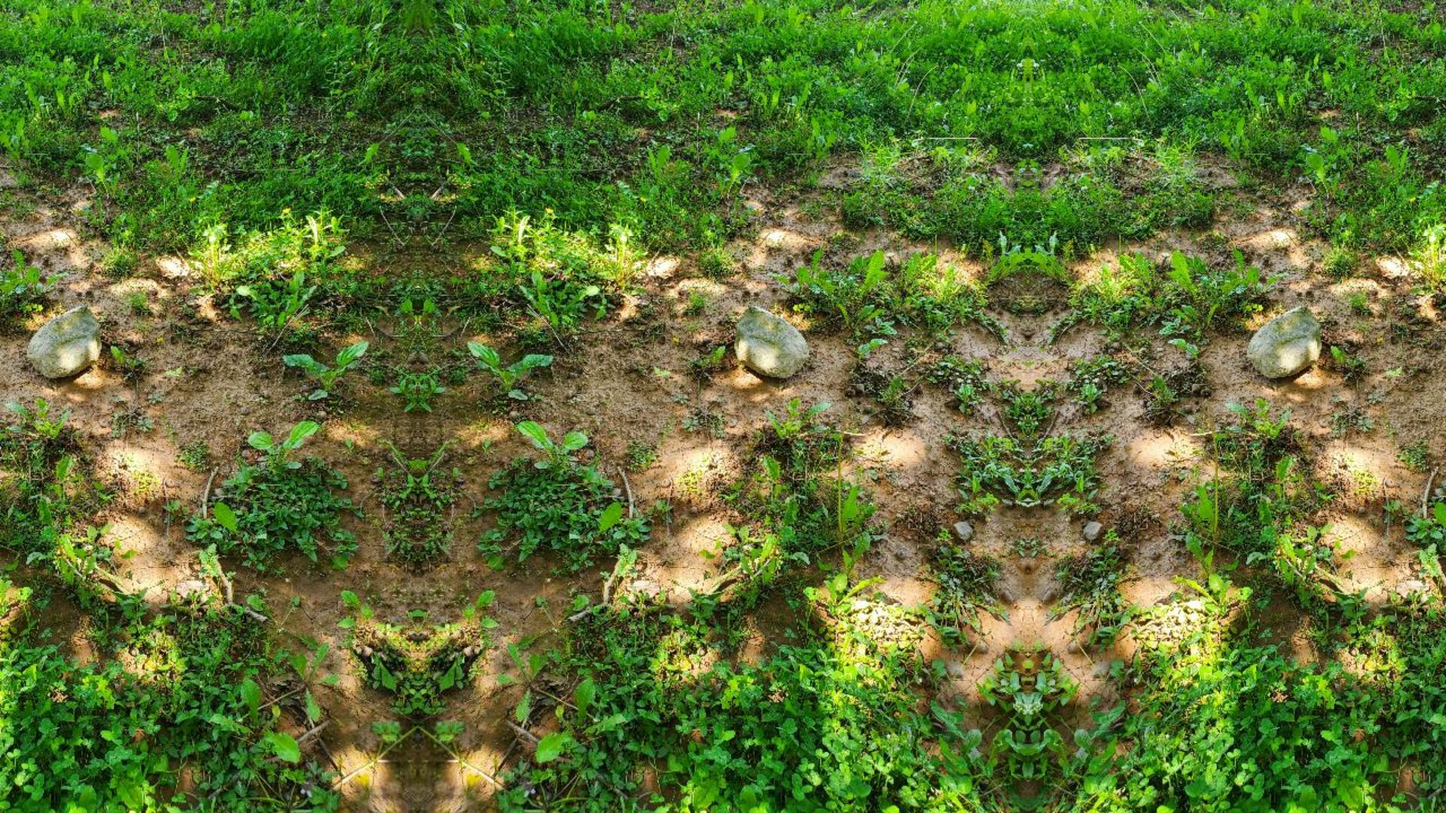rock: (26, 305, 101, 378), (734, 306, 809, 378), (1246, 305, 1319, 378)
